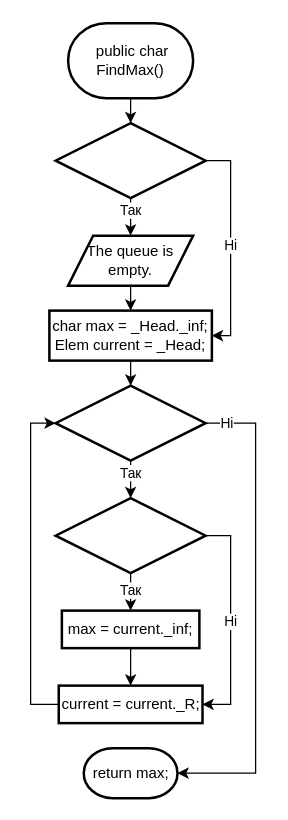
Image size: 288x820. Some labels were removed from this diagram. Each missing label, with the centre of its shape:
_Head == null: (x=130, y=160)
current != null: (x=130, y=422)
current._inf > max: (x=130, y=535)
